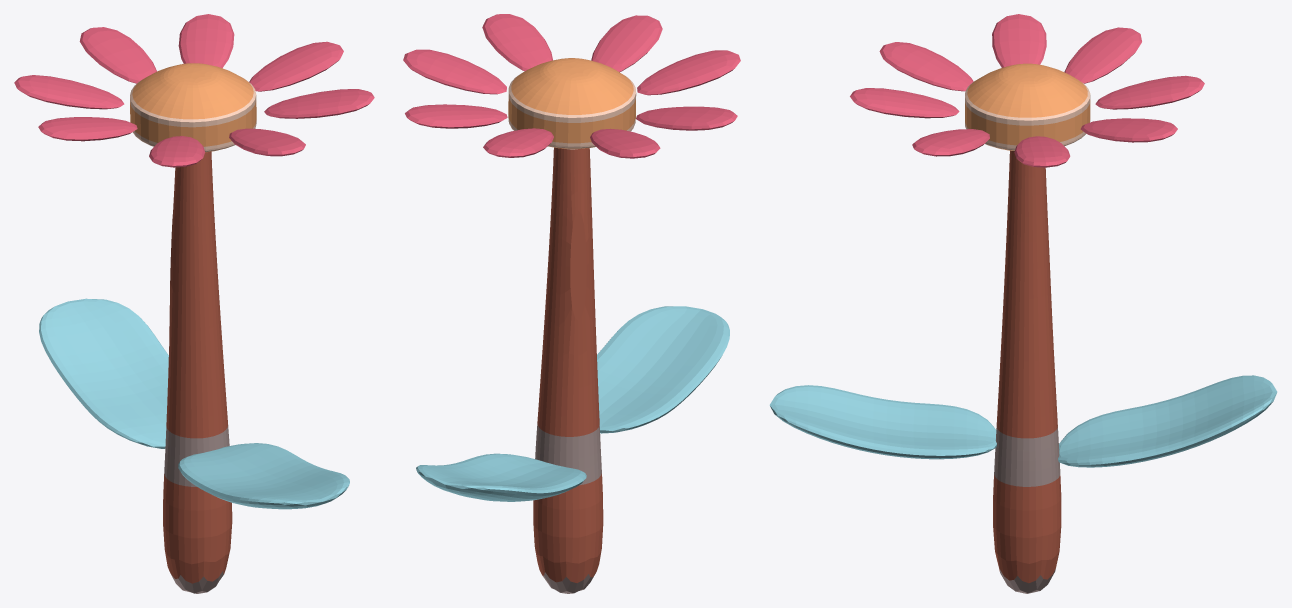
Rendered from flowerredv2.fbx.
The picture shows the model from 3 angles, left to right: view 1: azimuth 30°, elevation 25°; view 2: azimuth 150°, elevation 25°; view 3: azimuth 270°, elevation 25°; orthographic projection.
Parts seen in each view (by area): view 1: flowerred; view 2: flowerred; view 3: flowerred.
Boxes of the visible parts, bbox=[...] form: flowerred: bbox=[14, 14, 374, 593]; flowerred: bbox=[403, 14, 740, 593]; flowerred: bbox=[769, 14, 1277, 593].
Bounding box in the file's own units: 917 × 1463 × 1297.
